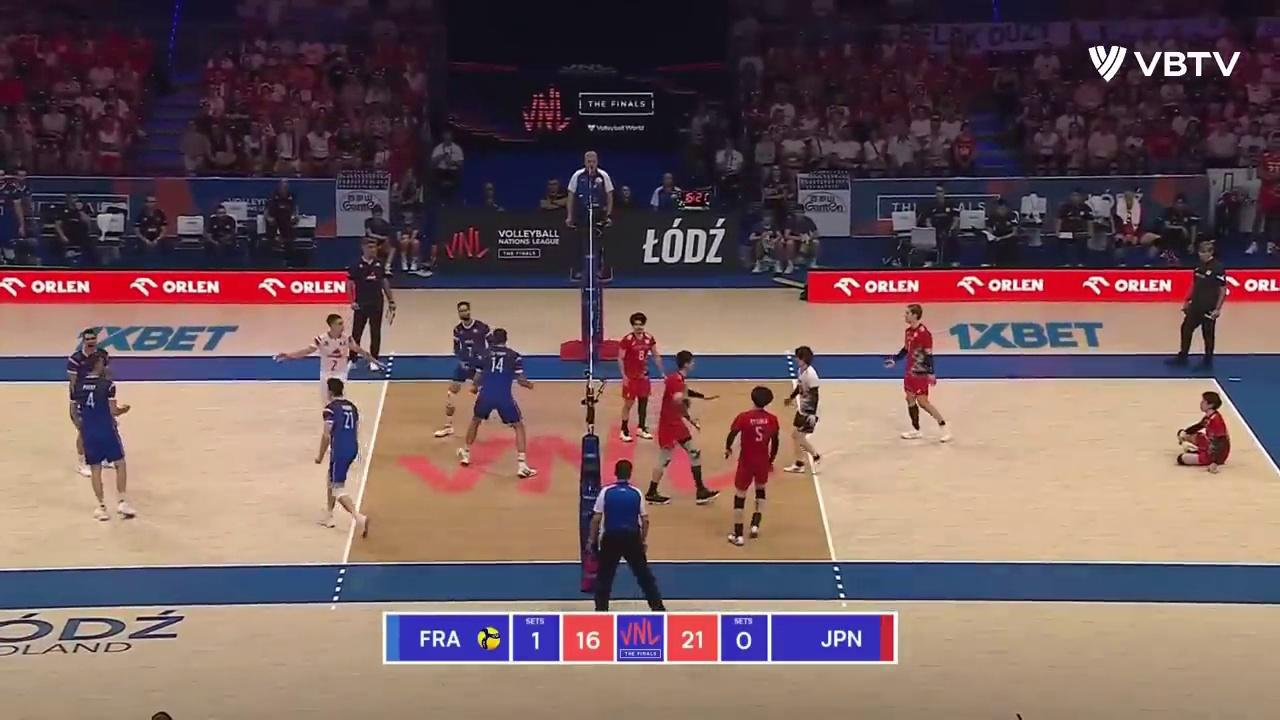ball: (675, 394, 688, 412)
